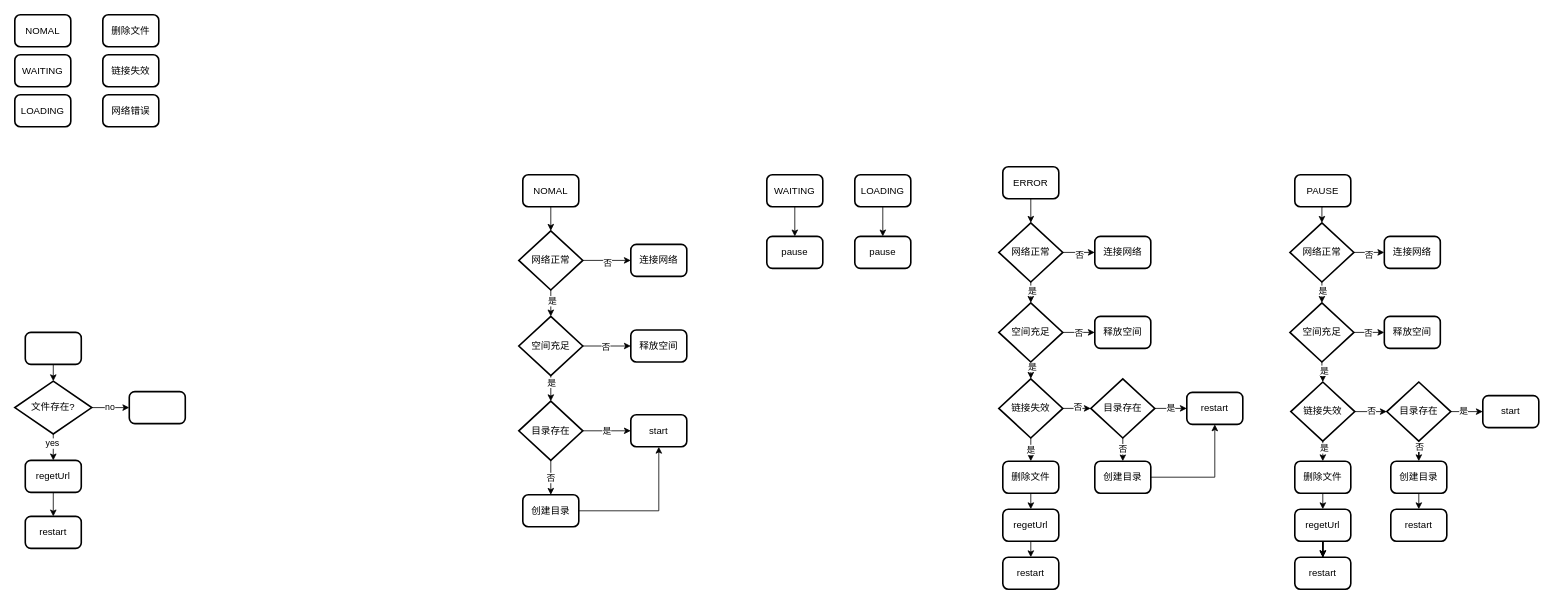
The diagram is 1553 pixels wide and 603 high, and some of its shapes have lost their labels. Here are the shapes that lost their labels. From the top down, the centre of each, then its label:
At point (53, 348): "FINISH".
At point (157, 407): "播放".
